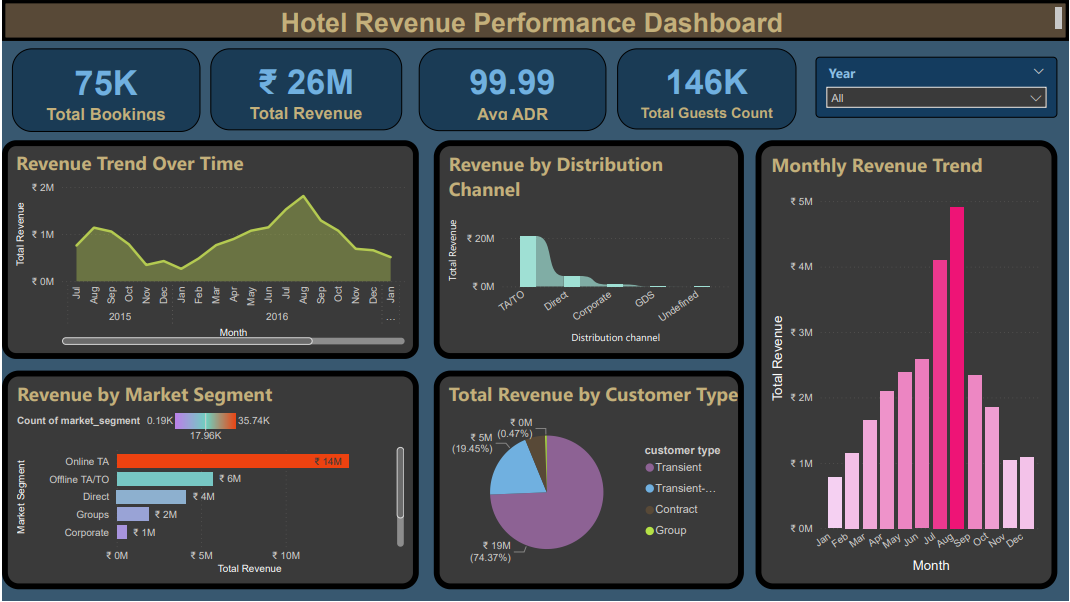

The dashboard page shown, as its layout file describes it:
{"tool":"powerbi","page":{"name":"Hotel Revenue Performance","canvas":[1280,720],"ordinal":0},"visuals":[{"type":"card","fields":{"Values":["Sheet1.Total Revenue"]},"box":[250,58,230,98],"z":0},{"type":"card","fields":{"Values":["Sheet1.Total Bookings"]},"box":[11.7,58.3,226.7,100],"z":1000},{"type":"card","fields":{"Values":["Sheet1.Avg ADR"]},"box":[500,58.3,225,98.3],"z":2000},{"type":"card","fields":{"Values":["Sheet1.Total Guests Count"]},"box":[737.5,57.5,215,97.5],"z":3000},{"type":"clusteredBarChart","title":"Revenue by Market Segment","fields":{"Category":["Sheet1.market_segment"],"Y":["Sheet1.Total Revenue"]},"box":[0,444,500,262],"z":4000},{"type":"ribbonChart","title":" Revenue by Distribution Channel","fields":{"Category":["Sheet1.distribution_channel"],"Y":["Sheet1.Total Revenue"]},"box":[518,168,372,262],"z":5000},{"type":"lineStackedColumnComboChart","title":"Monthly Revenue Trend","fields":{"Category":["Calendar.Month"],"Y":["Sheet1.Total Revenue"]},"box":[904,168,362,538],"z":6000},{"type":"lineChart","title":"Revenue Trend Over Time","fields":{"Y":["Sheet1.Total Revenue"],"Category":["Calendar.Year","Calendar.Month"]},"box":[0,168,500,262],"z":7000},{"type":"textbox","box":[0,0,1280.3,48.9],"z":8000},{"type":"slicer","fields":{"Values":["Calendar.Year"]},"box":[976,67.6,289.5,73.6],"z":9000},{"type":"pieChart","title":"Total Revenue by Customer Type","fields":{"Category":["Sheet1.customer_type"],"Y":["Sheet1.Total Revenue"]},"box":[518,444,372,262],"z":10000}]}

Visuals, with their boxes in screenshot pixels (x1, y1, x2, y2), scaled from the page's 1280x720 canvas onto the 1070x602 screenshot:
card - Sheet1.Total Revenue: (left=209, top=48, right=401, bottom=130)
card - Sheet1.Total Bookings: (left=10, top=49, right=199, bottom=132)
card - Sheet1.Avg ADR: (left=418, top=49, right=606, bottom=131)
card - Sheet1.Total Guests Count: (left=617, top=48, right=796, bottom=130)
"Revenue by Market Segment" clusteredBarChart: (left=0, top=371, right=418, bottom=590)
" Revenue by Distribution Channel" ribbonChart: (left=433, top=140, right=744, bottom=360)
"Monthly Revenue Trend" lineStackedColumnComboChart: (left=756, top=140, right=1058, bottom=590)
"Revenue Trend Over Time" lineChart: (left=0, top=140, right=418, bottom=360)
textbox: (left=0, top=0, right=1069, bottom=41)
slicer - Calendar.Year: (left=816, top=57, right=1058, bottom=118)
"Total Revenue by Customer Type" pieChart: (left=433, top=371, right=744, bottom=590)
